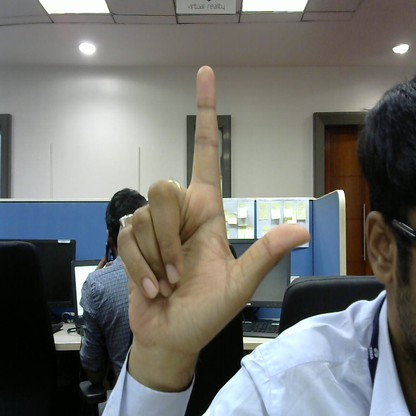l: (111, 60, 311, 365)
